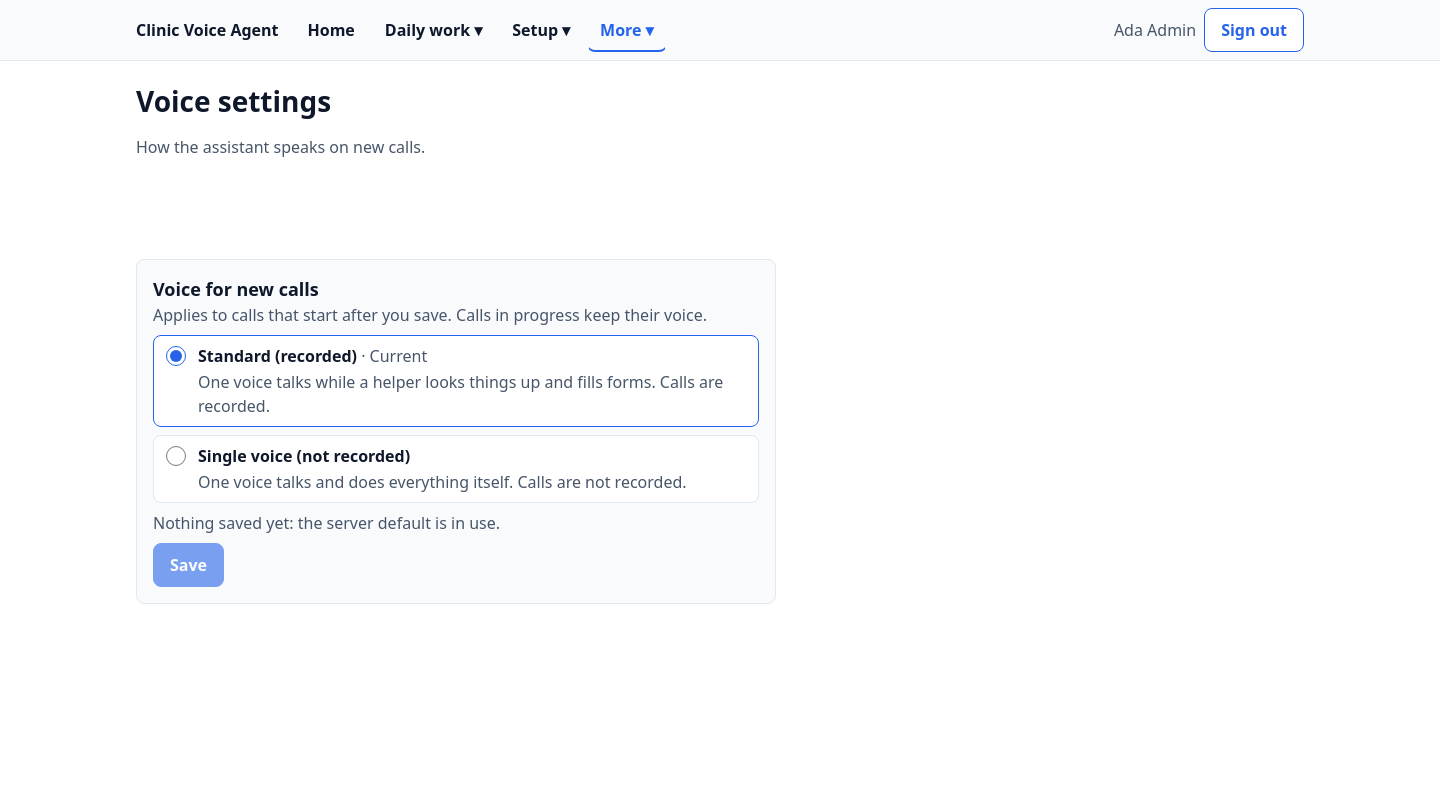
Test: T-FE: voice-mode settings › shows the default mode, a labelled group and Save disabled until something changes
Expected: the element "Voice for new calls" is shown, x1=153 y1=276 x2=759 y2=503
Expected: the text with test id "settings-meta" shows "Nothing saved yet", x1=153 y1=512 x2=500 y2=534
Click the 2nd radio button at (176, 456), box x1=166 y1=446 x2=186 y2=466
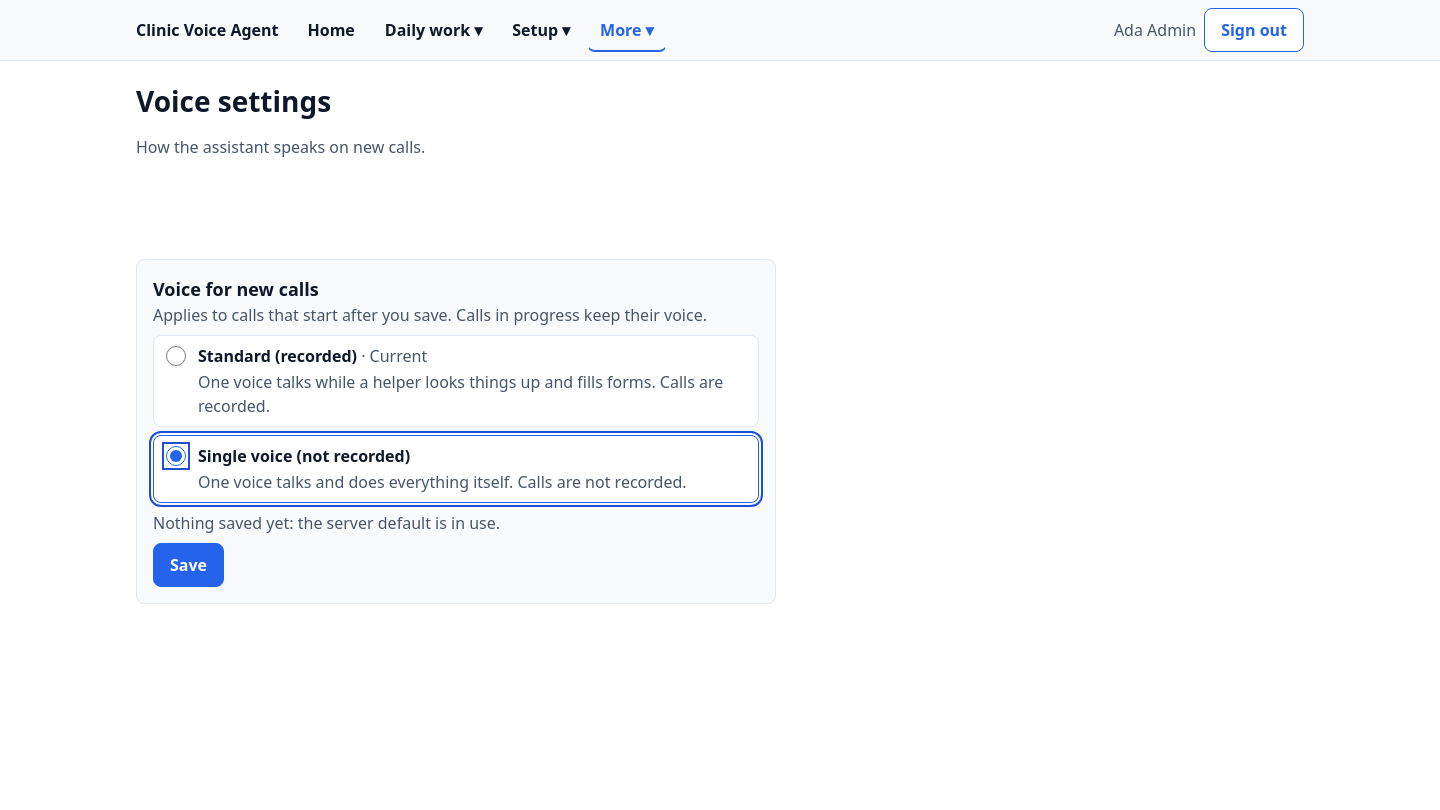
Result: the button with test id "settings-save" is enabled at x1=153 y1=543 x2=224 y2=587
Click the 1st radio button at (176, 356), box x1=166 y1=346 x2=186 y2=366
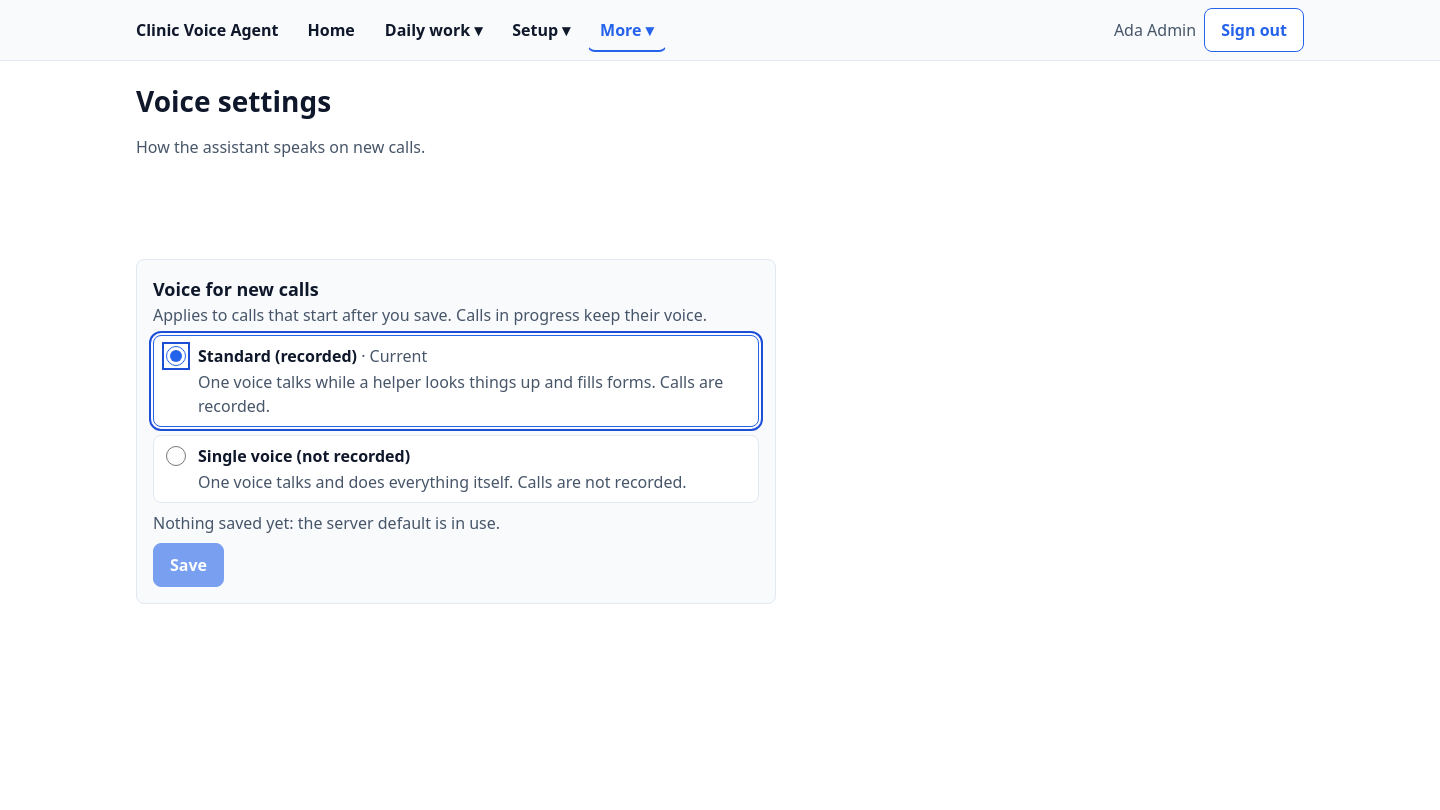
Result: the button with test id "settings-save" is disabled at x1=153 y1=543 x2=224 y2=587
